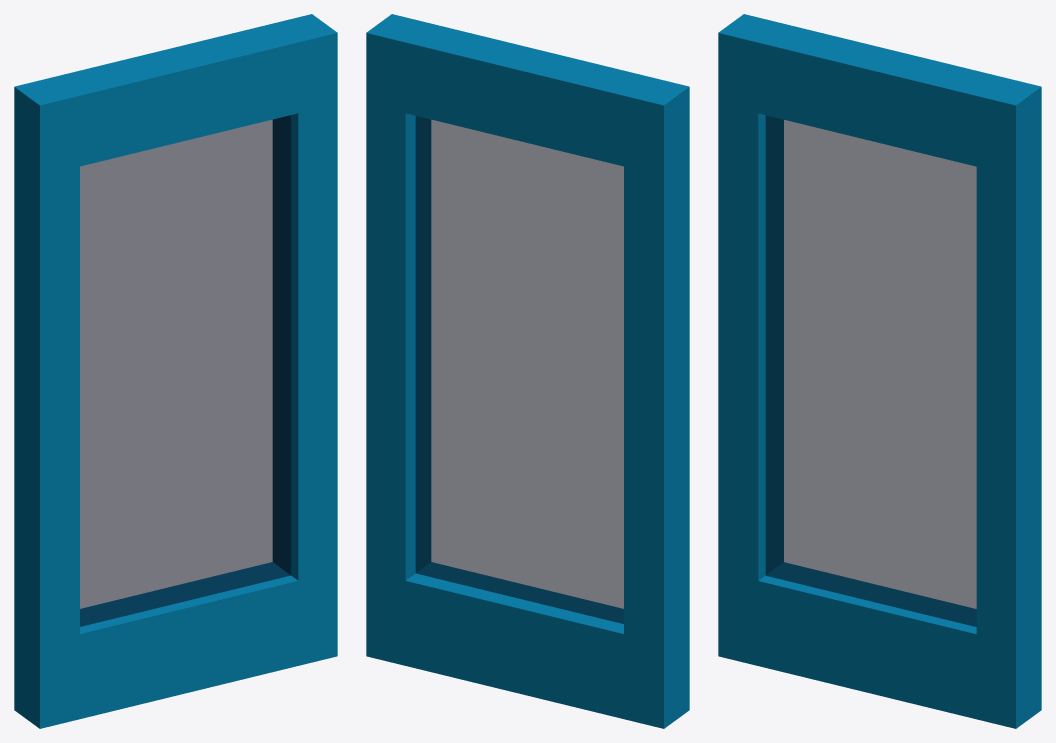
Rendered from BlueWindowLarge.glb.
The picture shows the model from 3 angles, left to right: view 1: azimuth 30°, elevation 25°; view 2: azimuth 150°, elevation 25°; view 3: azimuth 330°, elevation 25°; orthographic projection.
Parts seen in each view (by area): view 1: wall_largeWindow_blue; view 2: wall_largeWindow_blue; view 3: wall_largeWindow_blue.
Boxes of the visible parts, x1,y1,x2,y2 form: wall_largeWindow_blue: [14, 14, 337, 728]; wall_largeWindow_blue: [366, 14, 689, 728]; wall_largeWindow_blue: [718, 14, 1041, 728].
Size of what is drawn, in the model's own units: 2 by 4 by 0.3.
2 materials, 2 textured.
